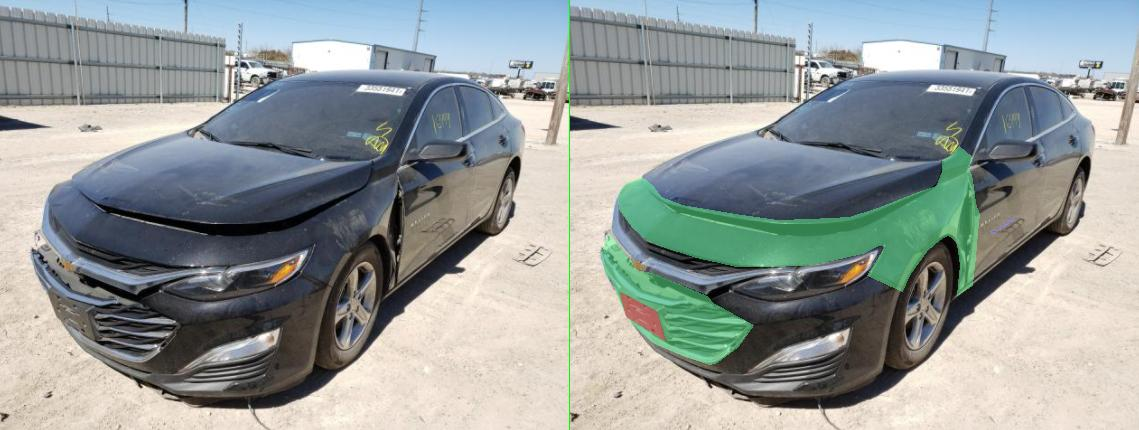Broken part: (96, 146, 819, 295), (62, 233, 366, 364)
Dent: (739, 182, 809, 292)
Missing part: (100, 292, 190, 340)
Scratch: (841, 217, 891, 233)
